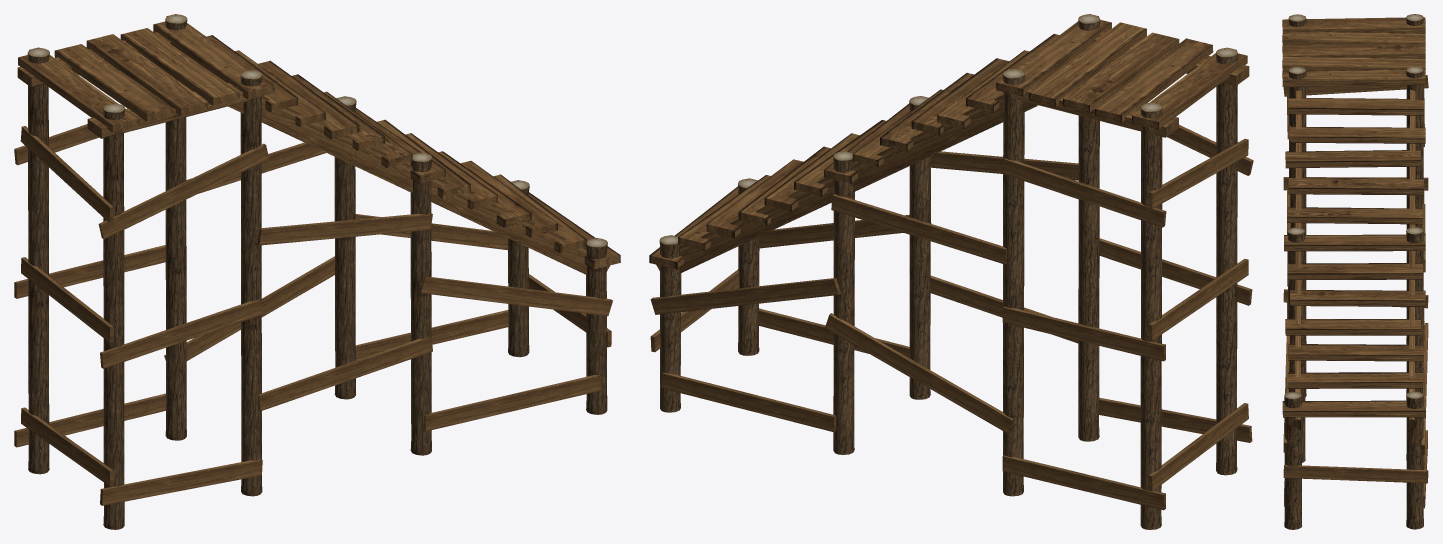
File: WoodStaircaseBig.obj
3 views of the same model, side by side, from view 1: azimuth 30°, elevation 25°; view 2: azimuth 150°, elevation 25°; view 3: azimuth 270°, elevation 25° (orthographic). The views are drawn at different scales.
Parts seen in each view (by area): view 1: Mesh; view 2: Mesh; view 3: Mesh.
Boxes of the visible parts, x1,y1,x2,y2 form: Mesh: (14,14,620,529); Mesh: (649,14,1253,529); Mesh: (1282,14,1428,529).
Bounding box in the file's own units: 8.55 × 6.6 × 2.68.
